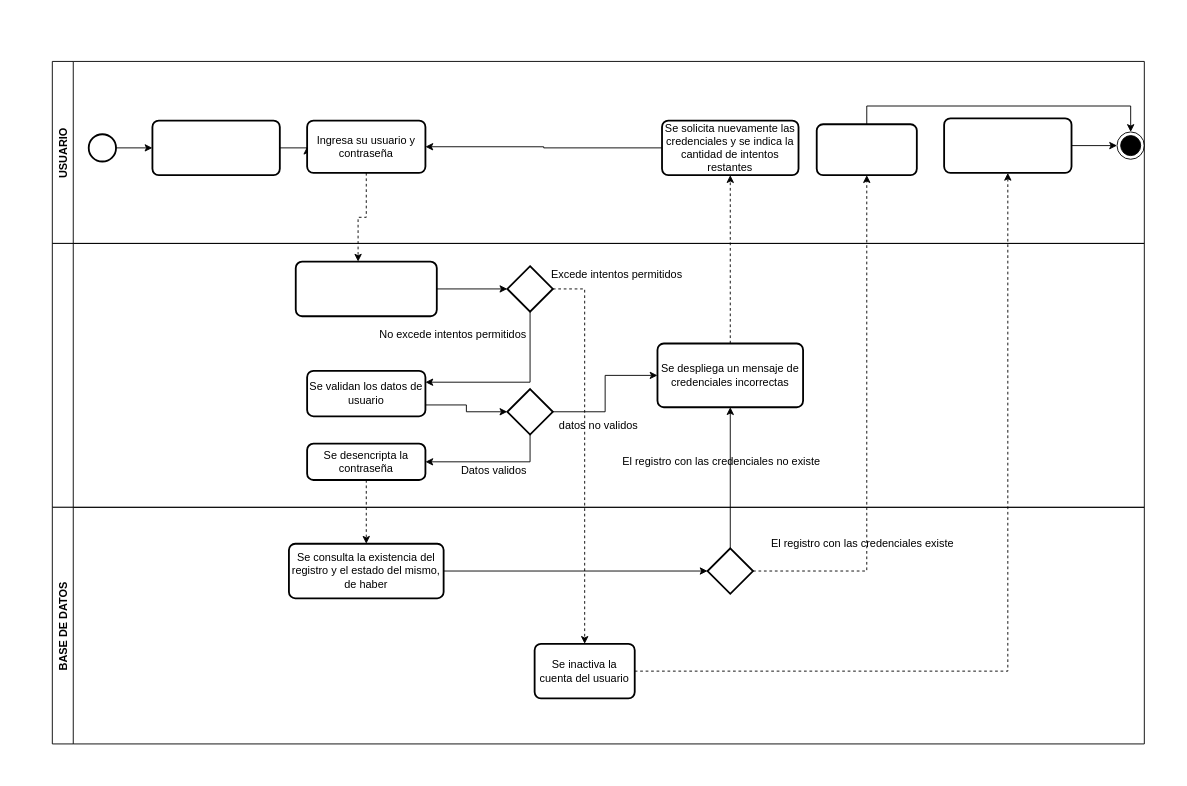
The diagram is 1187 pixels wide and 786 high, and some of its shapes have lost their labels. Here are the shapes that lost their labels. From the top down, the box of each, then its label:
(151, 119, 280, 176): ingresa a la vista de login o inicio de sesión
(815, 123, 917, 176): Ingresa al sistema
(943, 117, 1072, 173): Se muestra mensaje de cuenta desactivada
(294, 260, 437, 317): Se verifica la cantidad de intentos
(51, 243, 1144, 507): SISTEMA
